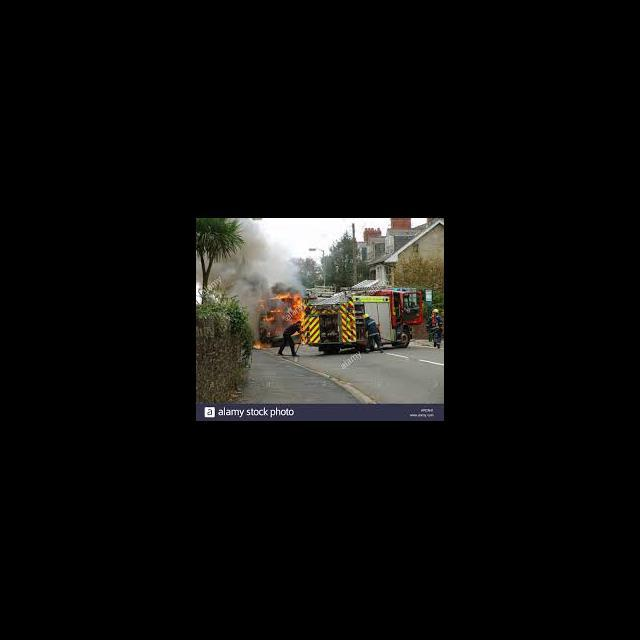Fire: (272, 292, 302, 310), (260, 310, 282, 326), (250, 342, 262, 352), (258, 298, 266, 310)
Smoke: (248, 227, 301, 288), (196, 250, 247, 296), (238, 283, 260, 338)
